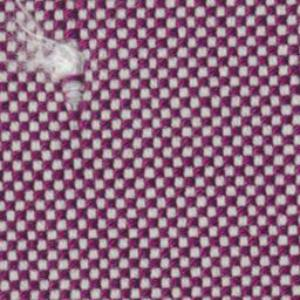fault: (8, 7, 88, 114)
